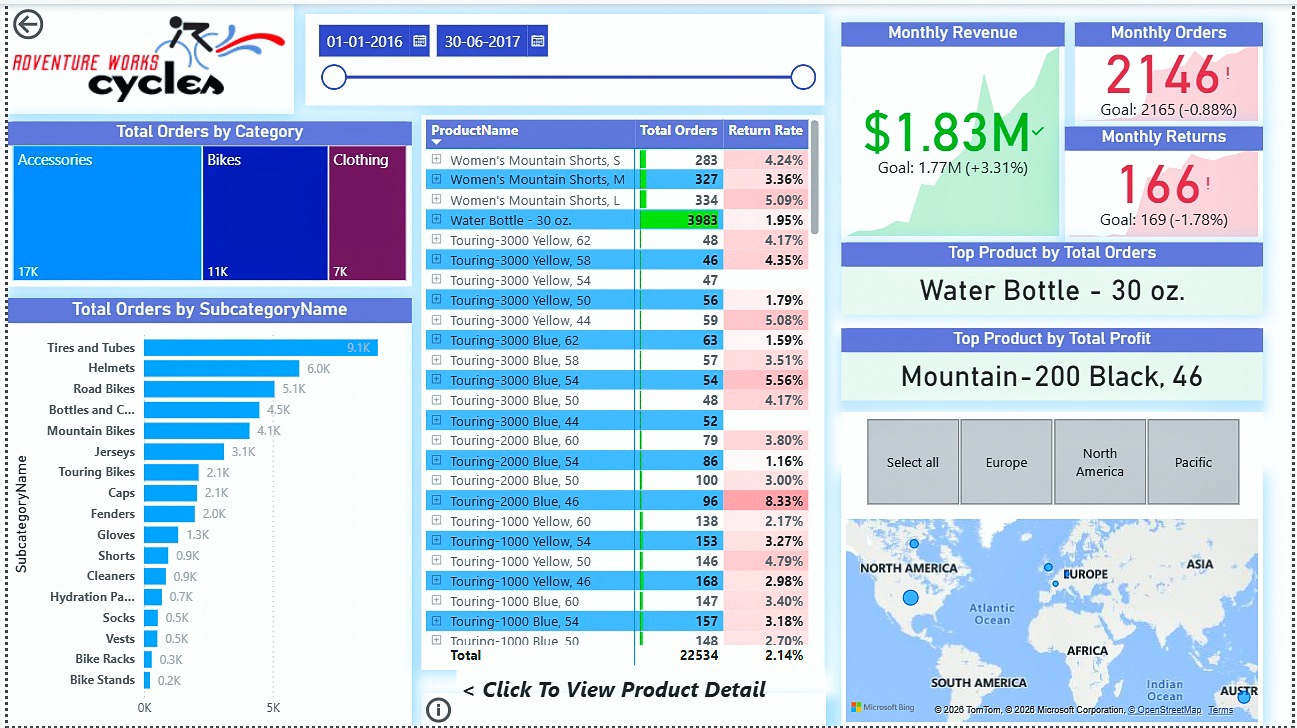

The dashboard page shown, as its layout file describes it:
{"tool":"powerbi","page":{"name":"Exec  Summary","canvas":[1280,720],"ordinal":2},"visuals":[{"type":"image","box":[0,0,284.3,109.8],"z":0},{"type":"barChart","title":"Total Orders by SubcategoryName","fields":{"Y":["AW_Sales.Total Orders"],"Category":["AW_Product_Subcategories_Lookup.SubcategoryName"]},"box":[0,292.2,402.2,427.8],"z":1000},{"type":"treemap","title":"Total Orders by Category","fields":{"Group":["AW_Product_Categories_Lookup.CategoryName","AW_Product_Subcategories_Lookup.SubcategoryName"],"Values":["AW_Sales.Total Orders"]},"box":[0,116.7,402.2,164],"z":2000},{"type":"actionButton","box":[0,0,100,40],"z":3000},{"type":"pivotTable","fields":{"Values":["AW_Sales.Total Orders","AW_Returns.Return Rate"],"Rows":["AW_Product_Lookup.ProductName","AW_Product_Subcategories_Lookup.SubcategoryName"]},"box":[411,109.8,401.5,553],"z":4000},{"type":"slicer","fields":{"Values":["AW_Calendar_Lookup.Date"]},"box":[295.4,9.5,517,90.9],"z":5000},{"type":"kpi","title":"Monthly Revenue","fields":{"TrendLine":["AW_Calendar_Lookup.Start of Month"],"Goal":["AW_Sales.Prev Month Revenue"],"Indicator":["AW_Sales.Total Revenue"]},"box":[830.5,18.9,222.5,218.2],"z":6000},{"type":"kpi","title":"Monthly Orders","fields":{"TrendLine":["AW_Calendar_Lookup.Start of Month"],"Indicator":["AW_Sales.Total Orders"],"Goal":["AW_Sales.Prev Month Orders"]},"box":[1063.3,18.9,187.6,103.3],"z":7000},{"type":"kpi","title":"Monthly Returns","fields":{"Goal":["AW_Sales.Prev Month Returns"],"Indicator":["AW_Returns.Total Returns"],"TrendLine":["AW_Calendar_Lookup.Start of Month"]},"box":[1053.1,122.2,197.8,114.9],"z":8000},{"type":"card","title":"Top Product by Total Orders","fields":{"Values":["Min(AW_Product_Lookup.ProductName)"]},"box":[830.4,238,420.3,72.2],"z":9000},{"type":"card","title":"Top Product by Total Profit","fields":{"Values":["Min(AW_Product_Lookup.ProductName)"]},"box":[830.4,322.8,420.3,72.2],"z":10000},{"type":"map","fields":{"Category":["AW_Territories_Lookup.Country"],"Size":["AW_Sales.Total Orders"]},"box":[829.5,469.7,420.4,250],"z":11000},{"type":"slicer","fields":{"Values":["AW_Territories_Lookup.Continent"]},"box":[829.5,407.2,420.4,98.5],"z":12000},{"type":"textbox","box":[447,662.9,367.4,45.5],"z":13000},{"type":"actionButton","box":[411,685.6,403.4,34.1],"z":14000}]}

Visuals, with their boxes in screenshot pixels (x1, y1, x2, y2), scaled from the page's 1280x720 canvas onto the 1297x728 screenshot:
image: 0, 0, 288, 111
"Total Orders by SubcategoryName" barChart: 0, 295, 408, 727
"Total Orders by Category" treemap: 0, 118, 408, 284
actionButton: 0, 0, 101, 40
pivotTable - AW_Sales.Total Orders x AW_Returns.Return Rate: 416, 111, 823, 670
slicer - AW_Calendar_Lookup.Date: 299, 10, 823, 102
"Monthly Revenue" kpi: 842, 19, 1067, 240
"Monthly Orders" kpi: 1077, 19, 1268, 124
"Monthly Returns" kpi: 1067, 124, 1268, 240
"Top Product by Total Orders" card: 841, 241, 1267, 314
"Top Product by Total Profit" card: 841, 326, 1267, 399
map - AW_Territories_Lookup.Country x AW_Sales.Total Orders: 841, 475, 1267, 727
slicer - AW_Territories_Lookup.Continent: 841, 412, 1267, 511
textbox: 453, 670, 825, 716
actionButton: 416, 693, 825, 727
